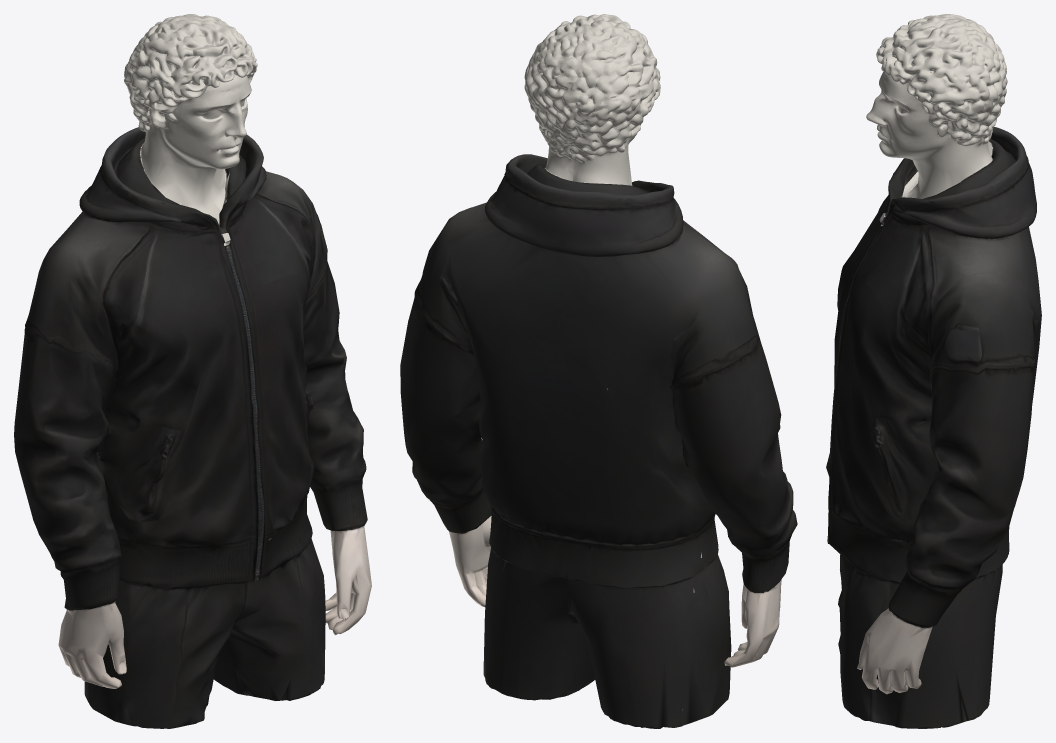
File: hoodie-sculpture-detailed.glb
3 renders of one model, left to right at view 1: azimuth 30°, elevation 25°; view 2: azimuth 150°, elevation 25°; view 3: azimuth 270°, elevation 25°, orthographic. The views are drawn at different scales.
Parts seen in each view (by area): view 1: model; view 2: model; view 3: model.
Part boxes in pixels (x1=…): model: x1=14, y1=14, x2=371, y2=728; model: x1=400, y1=14, x2=797, y2=728; model: x1=826, y1=14, x2=1041, y2=728.
Size of the model in its own units: 1.03 by 1.9 by 0.5662.
2 materials, 1 textured.
